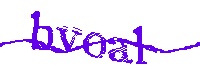a: (108, 38, 133, 64)
b: (30, 10, 52, 52)
l: (132, 24, 149, 66)
o: (82, 27, 107, 61)
v: (55, 23, 82, 55)
